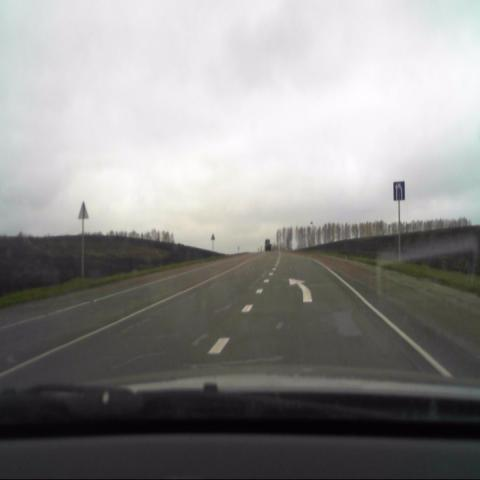5_15_5: (393, 181, 405, 202)
